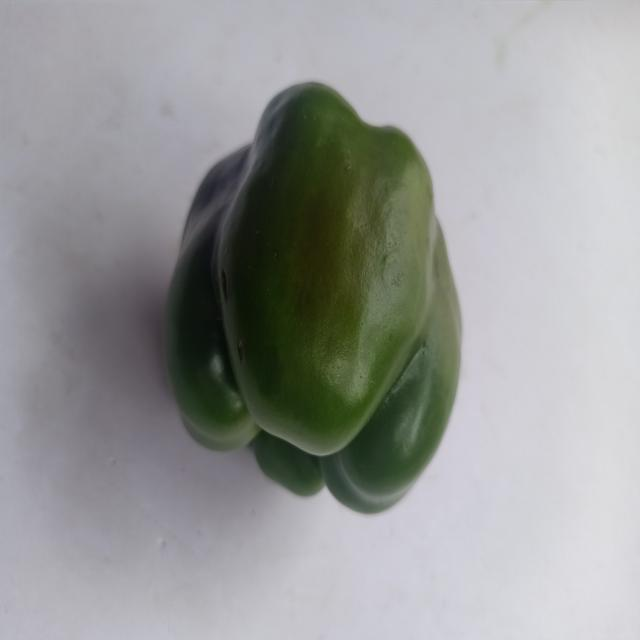Capsicum: (160, 63, 474, 531)
